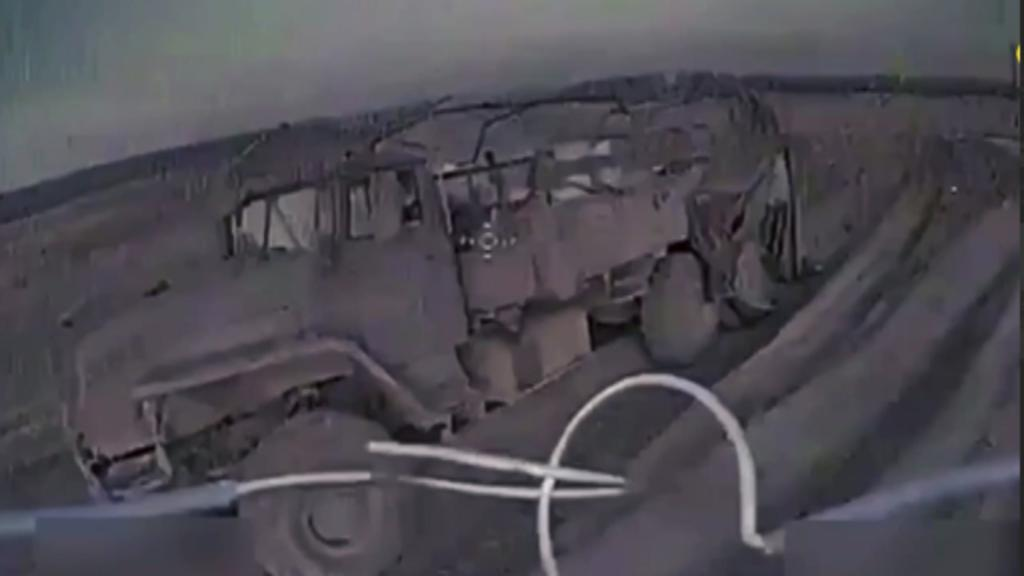TRUCK: (54, 71, 804, 571)
